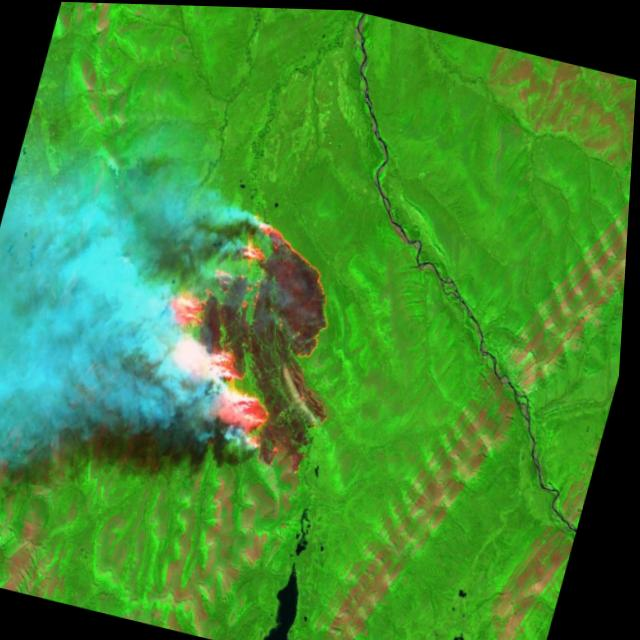fire: (136, 193, 362, 458)
